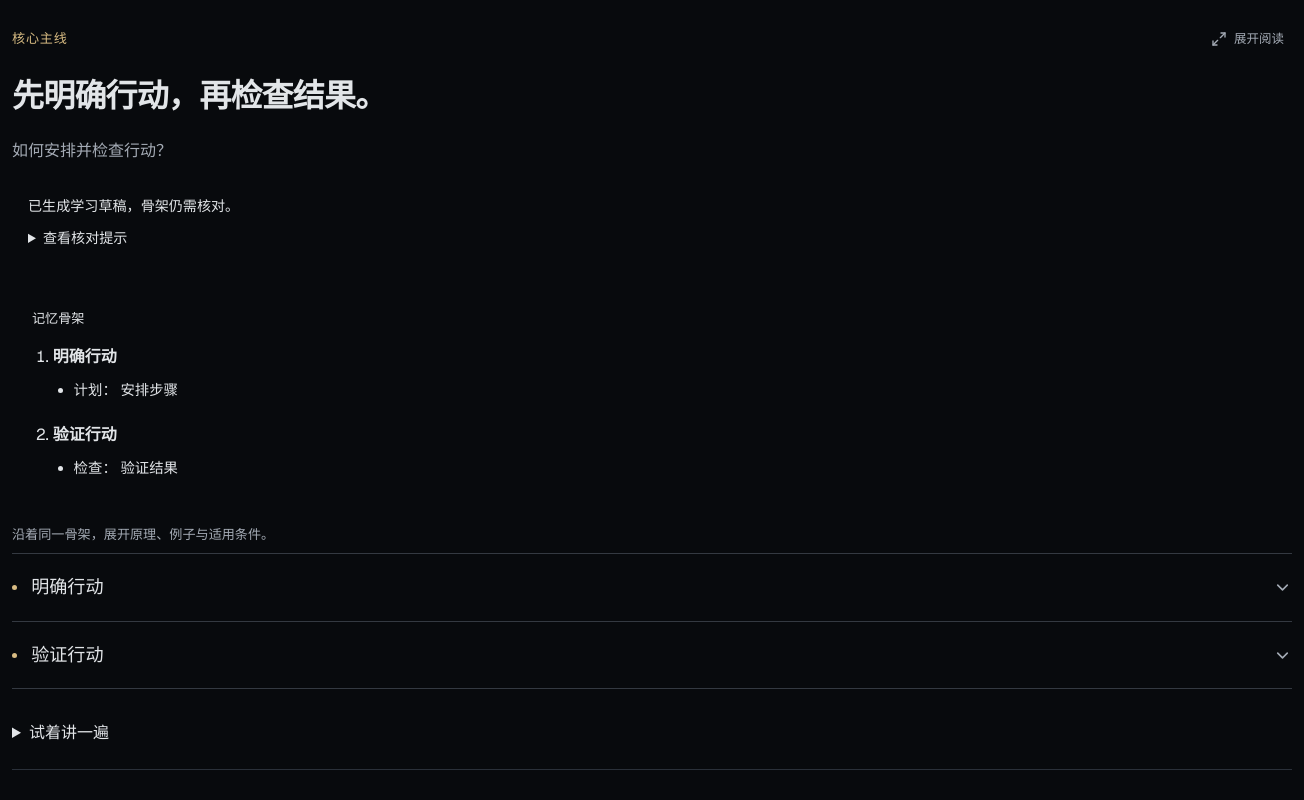
Test: KnowledgeSummaryView › describes review findings with knowledge names rather than internal identifiers
The image size is (1304, 800).
Click the heading "查看核对提示".
click(85, 238)  # box 43,229 -> 127,247
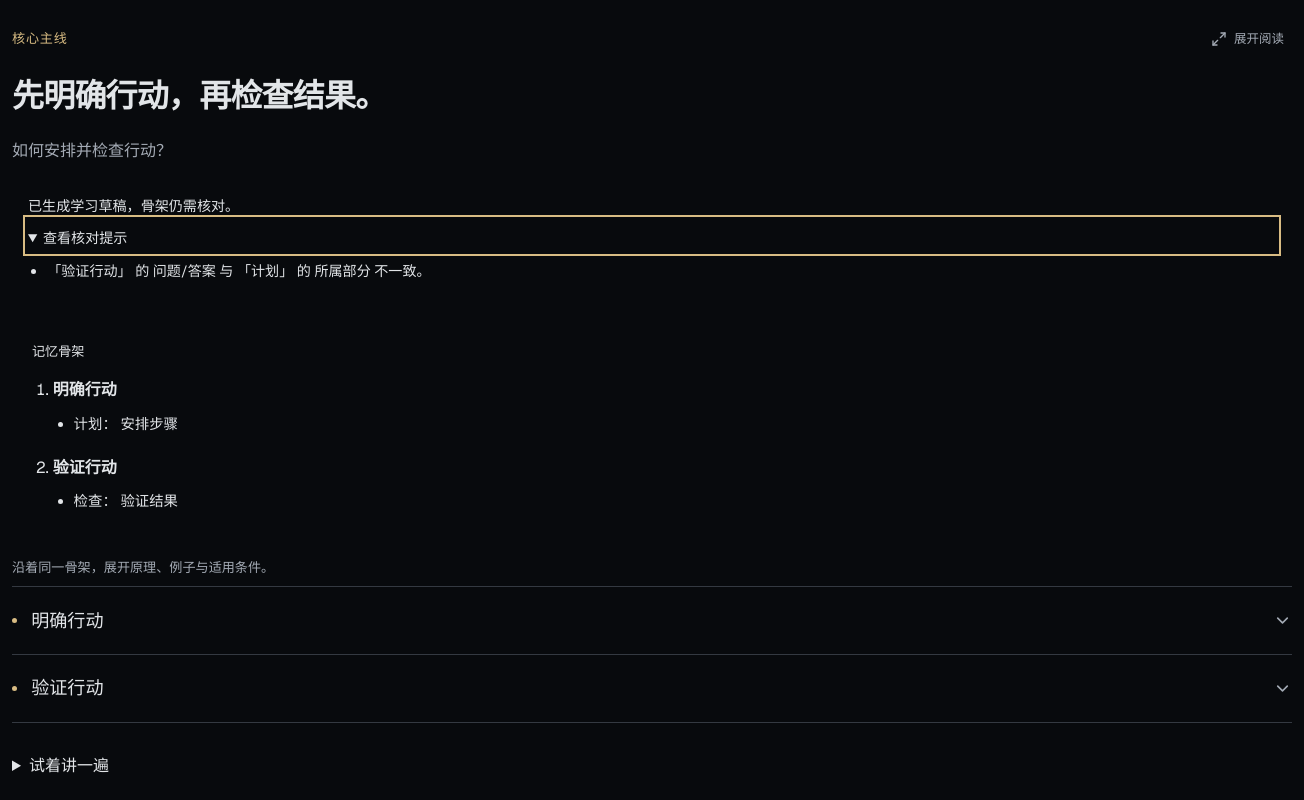
Check: the element named "提炼结果待核对" shows "验证行动", box 47,262 -> 431,280
Check: the element named "提炼结果待核对" shows "计划", box 47,262 -> 431,280
